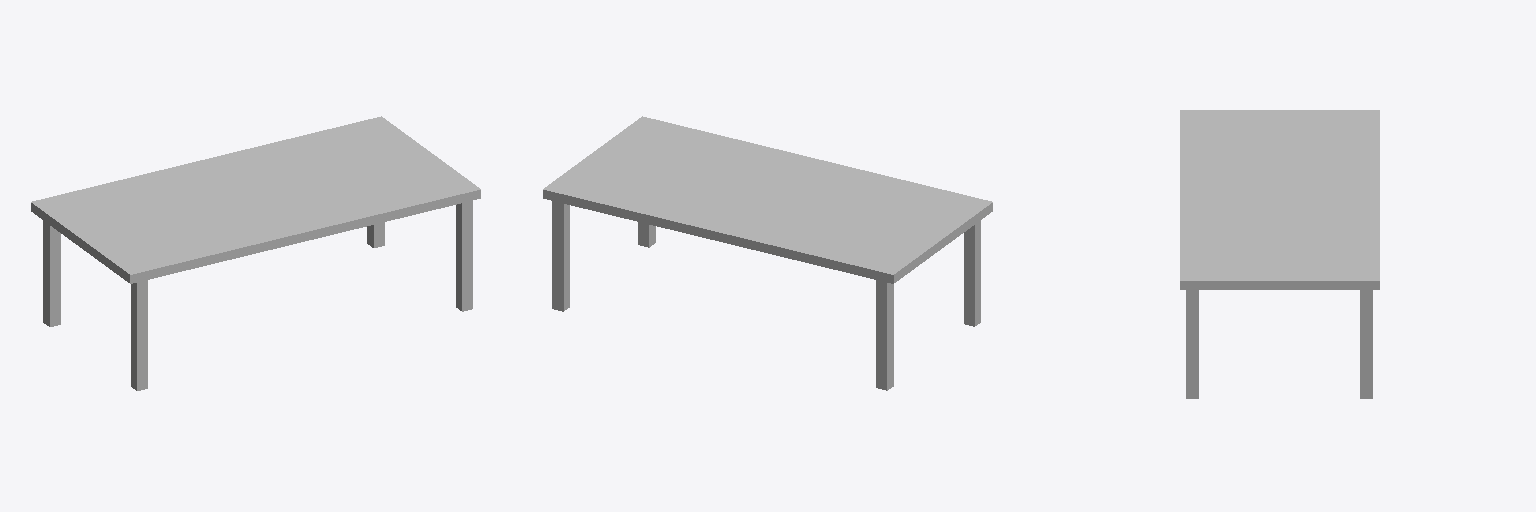
The model's file is table.obj.
3 views of the same model, side by side, from view 1: azimuth 30°, elevation 25°; view 2: azimuth 150°, elevation 25°; view 3: azimuth 270°, elevation 25° (orthographic).
Visible parts, largest first — view 1: Table_Cube.002; view 2: Table_Cube.002; view 3: Table_Cube.002.
Boxes of the visible parts, x1,y1,x2,y2 form: Table_Cube.002: [31, 116, 480, 390]; Table_Cube.002: [543, 116, 992, 390]; Table_Cube.002: [1180, 110, 1379, 398].
Bounding box in the file's own units: 4.06 × 1.33 × 2.